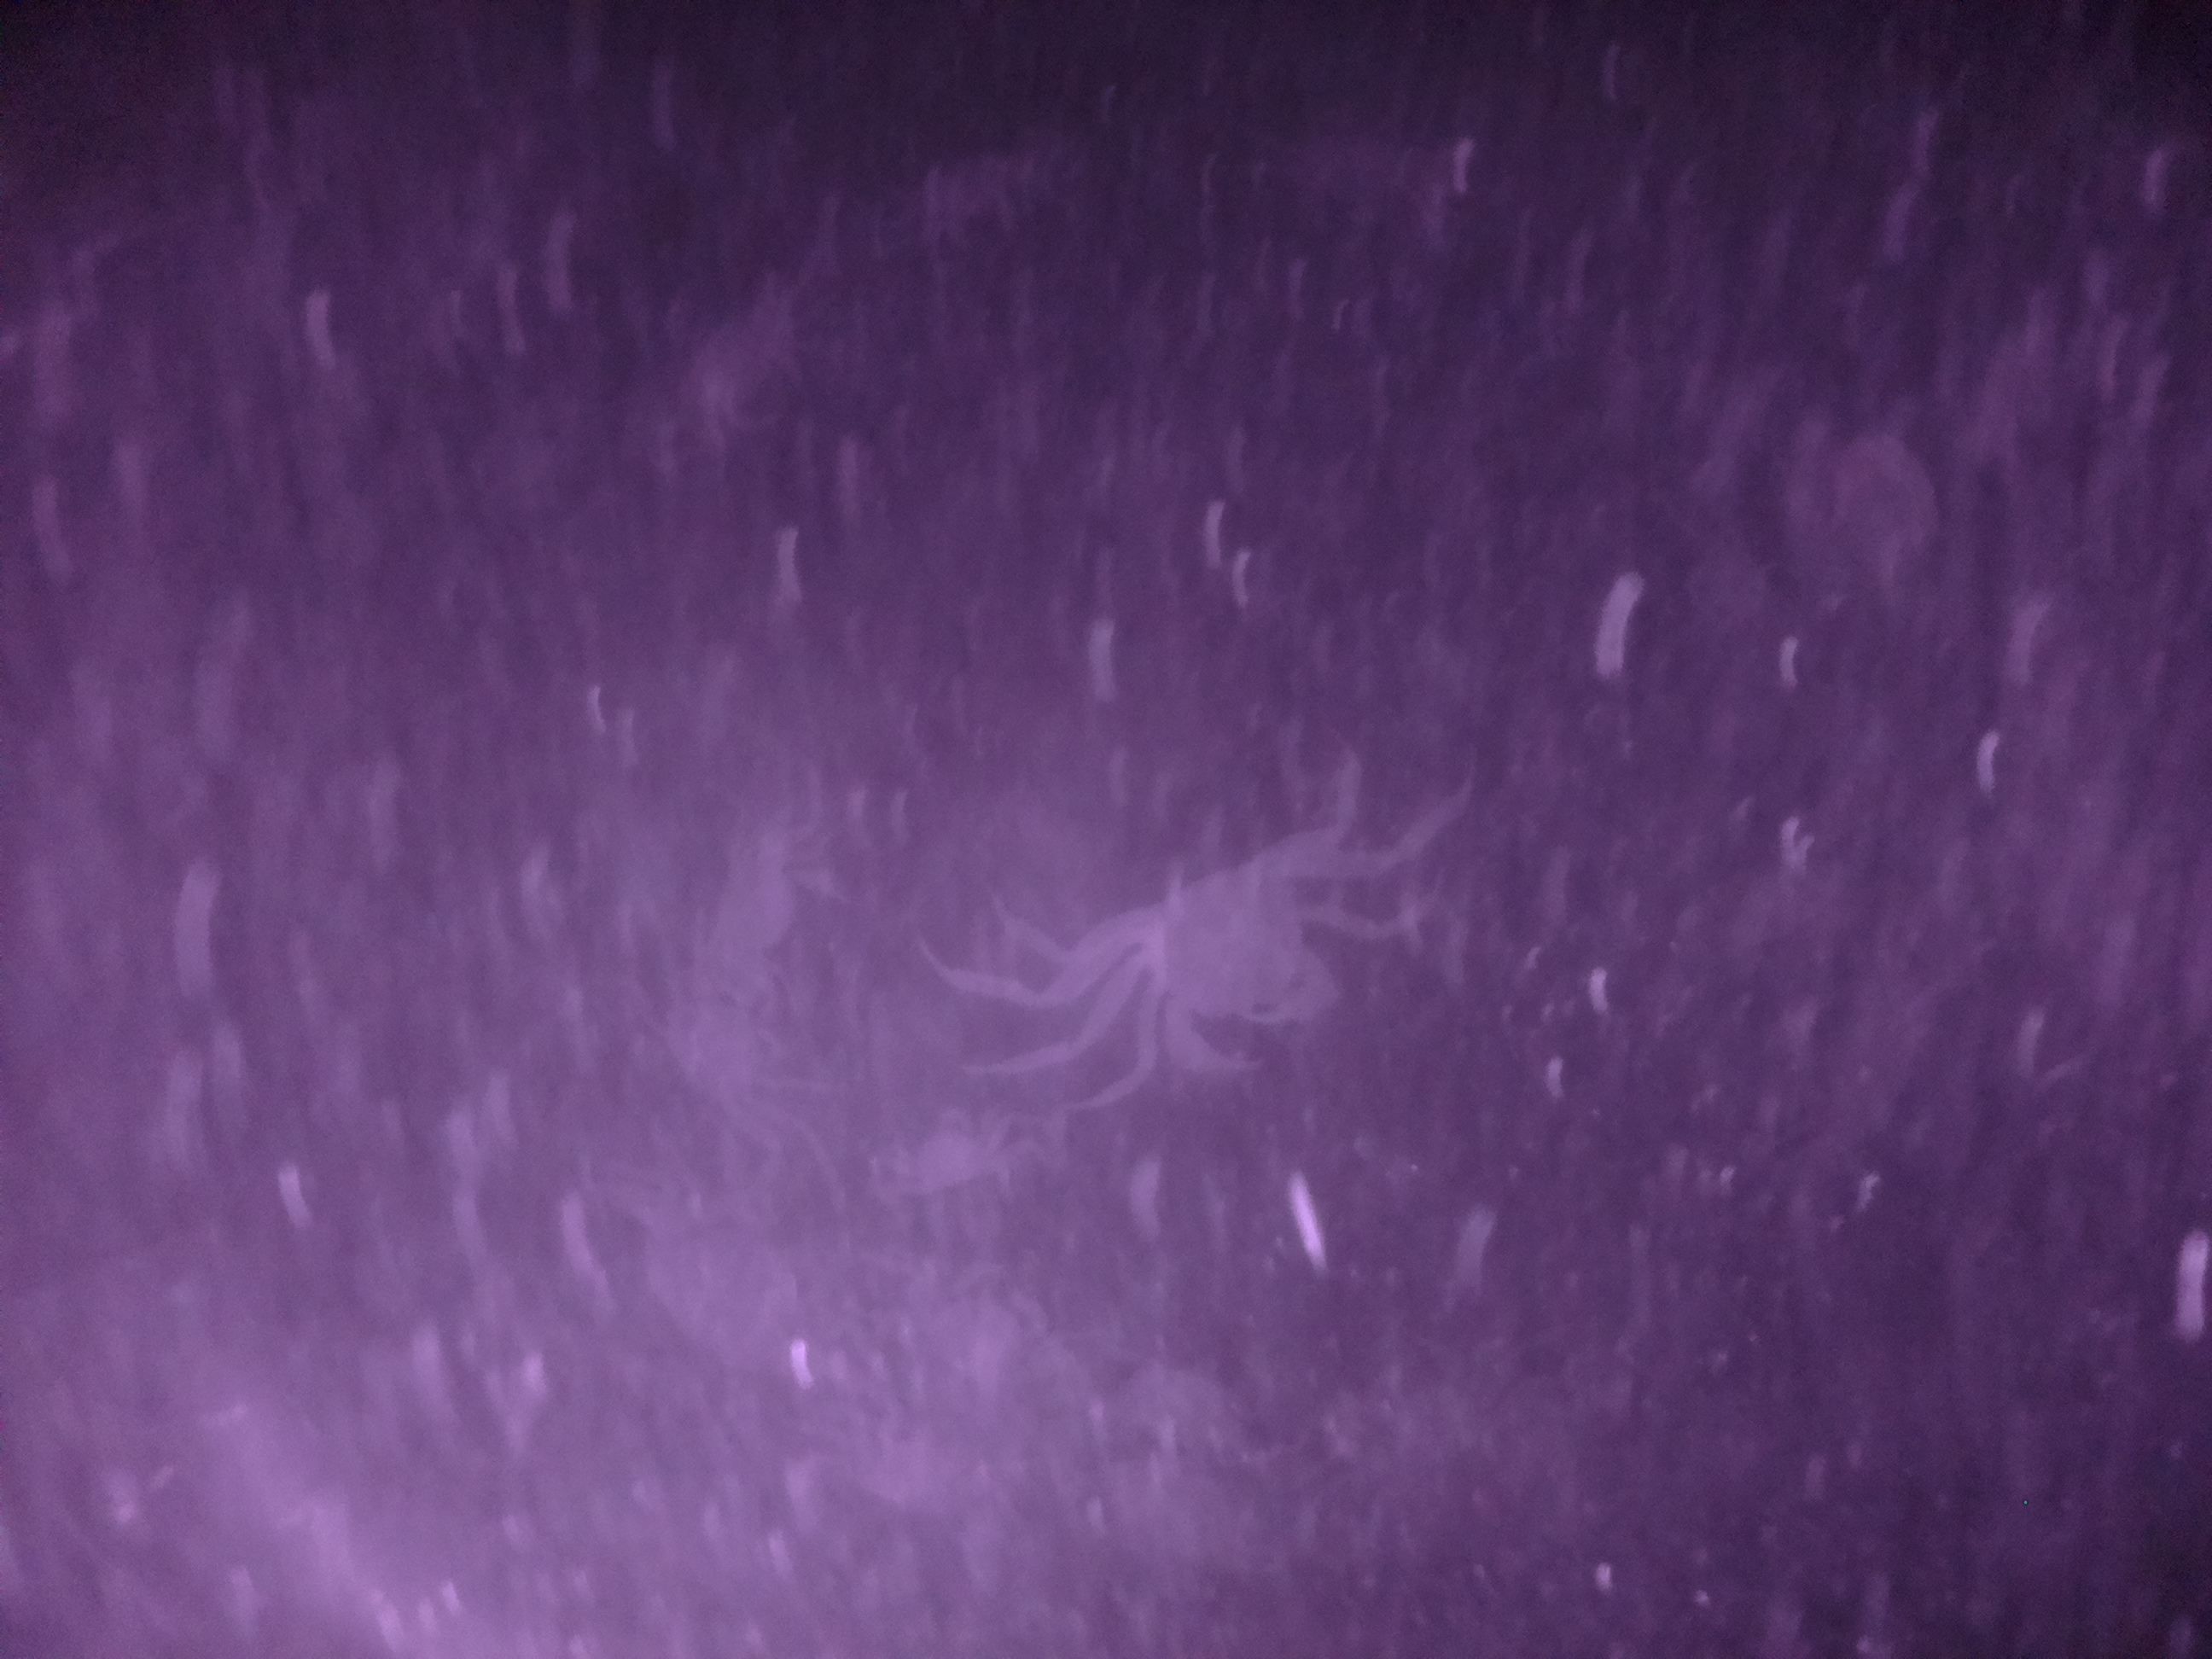Crab: (1094, 831, 1400, 1089)
